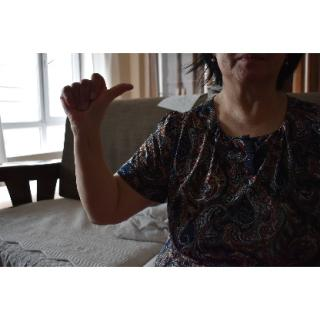DAD: (56, 70, 136, 133)
